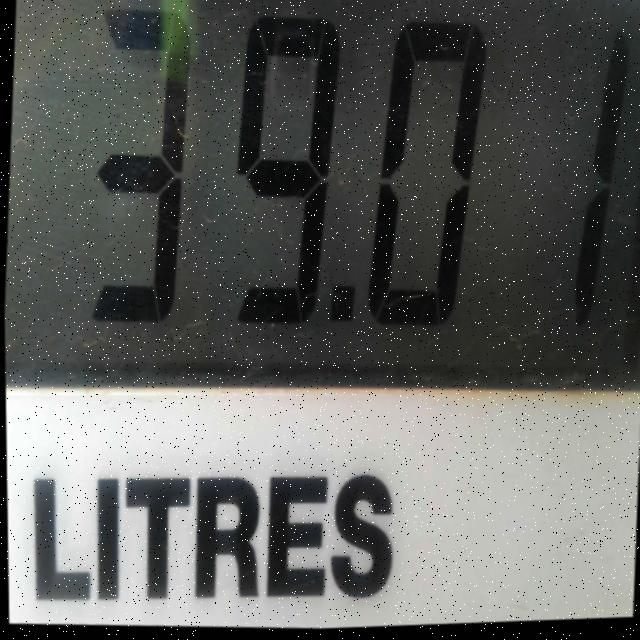.: (321, 265, 362, 350)
0: (368, 20, 491, 338)
1: (568, 33, 638, 332)
3: (88, 4, 193, 328)
9: (228, 17, 337, 331)
